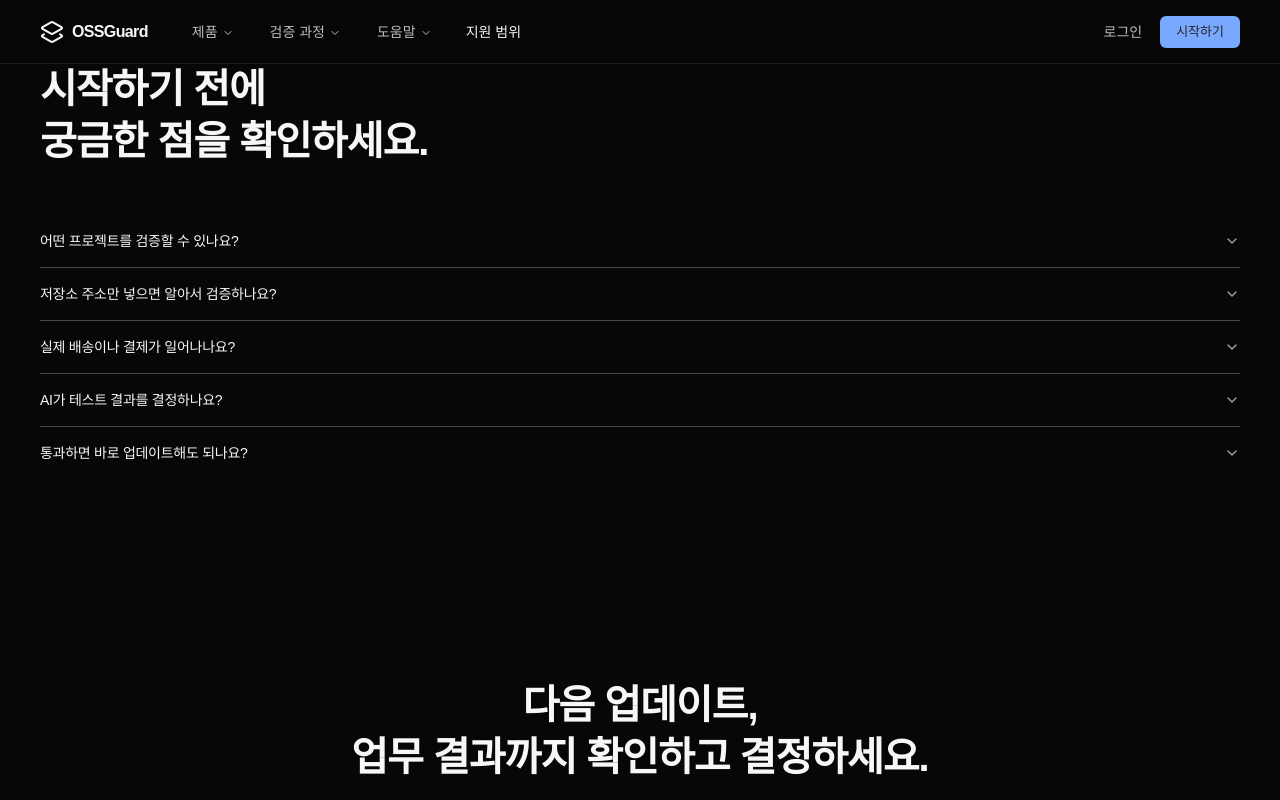
Test: separates AI explanations from evidence and describes the supported project scope
(page scrolled)
Click the button "AI가 테스트 결과를 결정하나요?".
click(131, 400)  # box x1=40 y1=374 x2=1240 y2=426
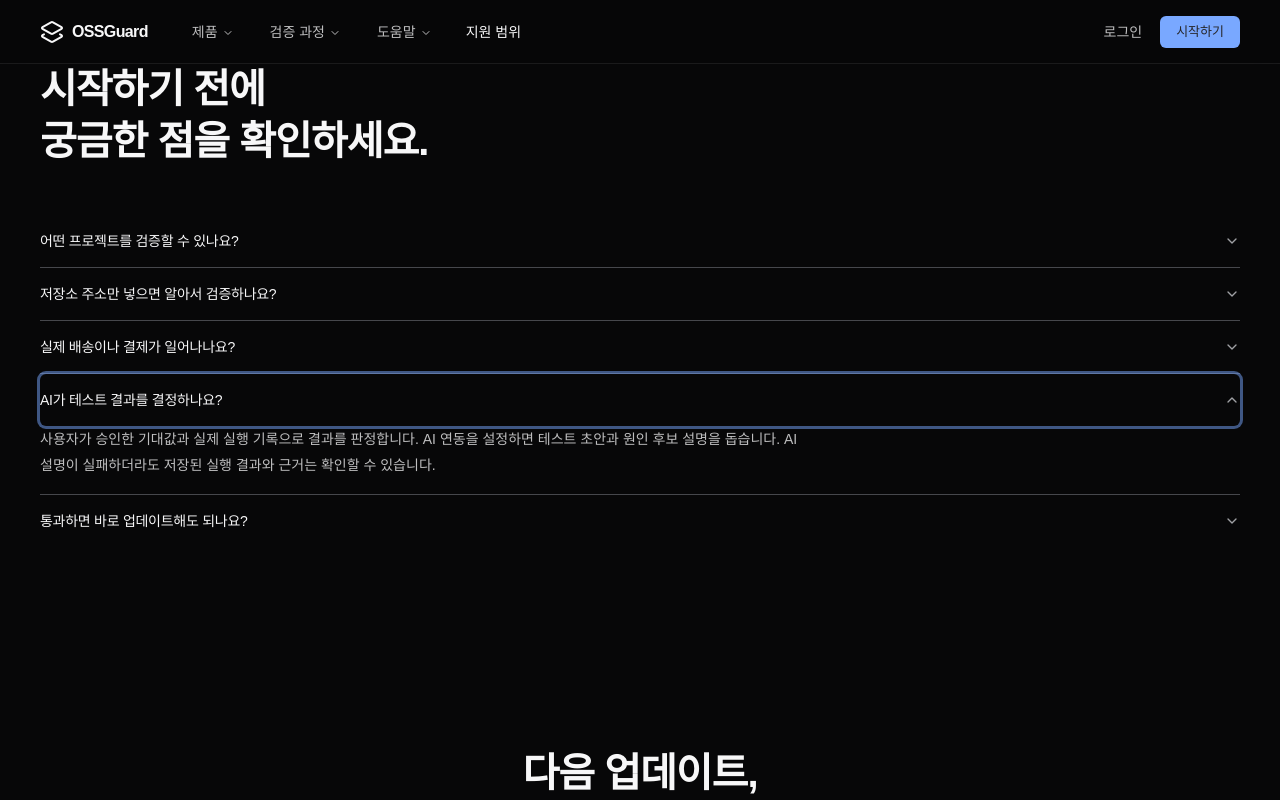
Expected: the text "사용자가 승인한 기대값과 실제 실행 기록으로 결과를 판정" is shown, x1=40 y1=431 x2=797 y2=473
Click the button "어떤 프로젝트를 검증할 수 있나요?".
click(139, 241)  # box x1=40 y1=215 x2=1240 y2=267
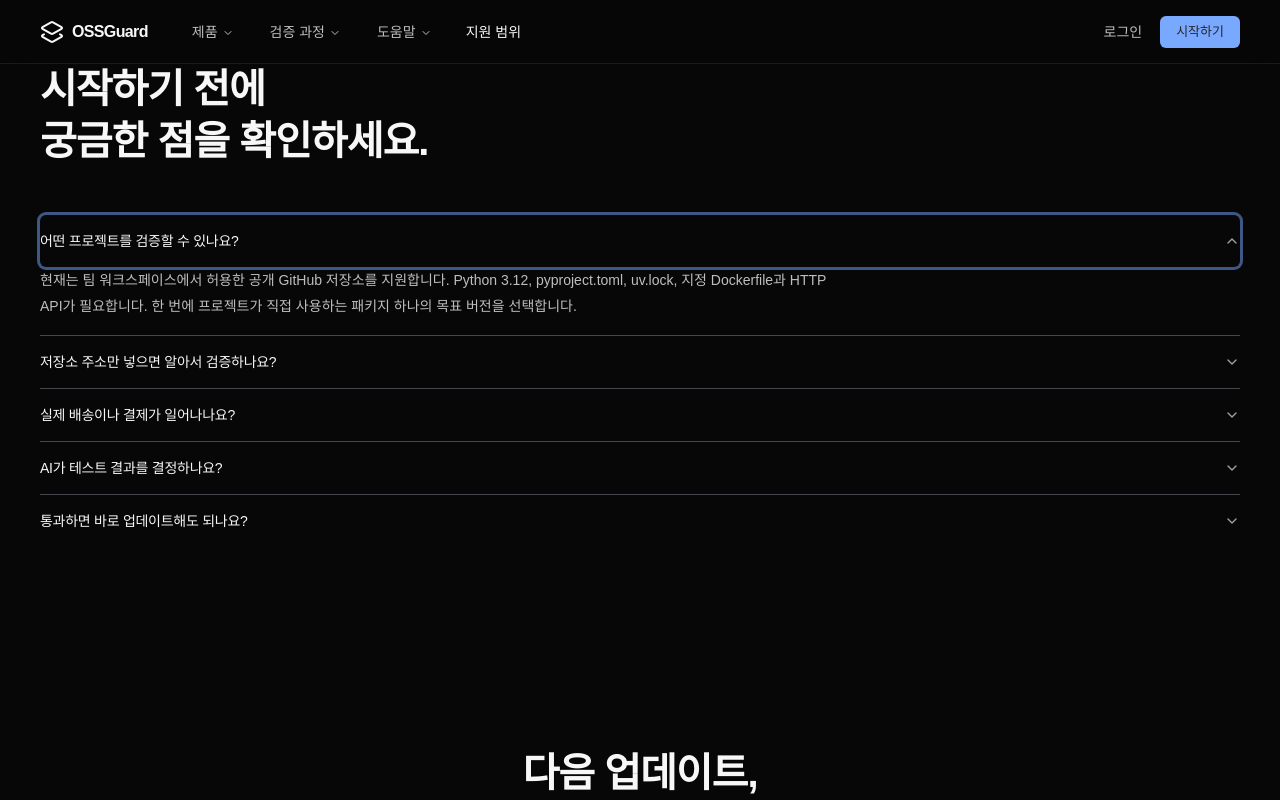
Expected: the text "한 번에 프로젝트가 직접 사용하는 패키지 하나의 목표 버전을 선택" is shown, x1=40 y1=272 x2=826 y2=314
